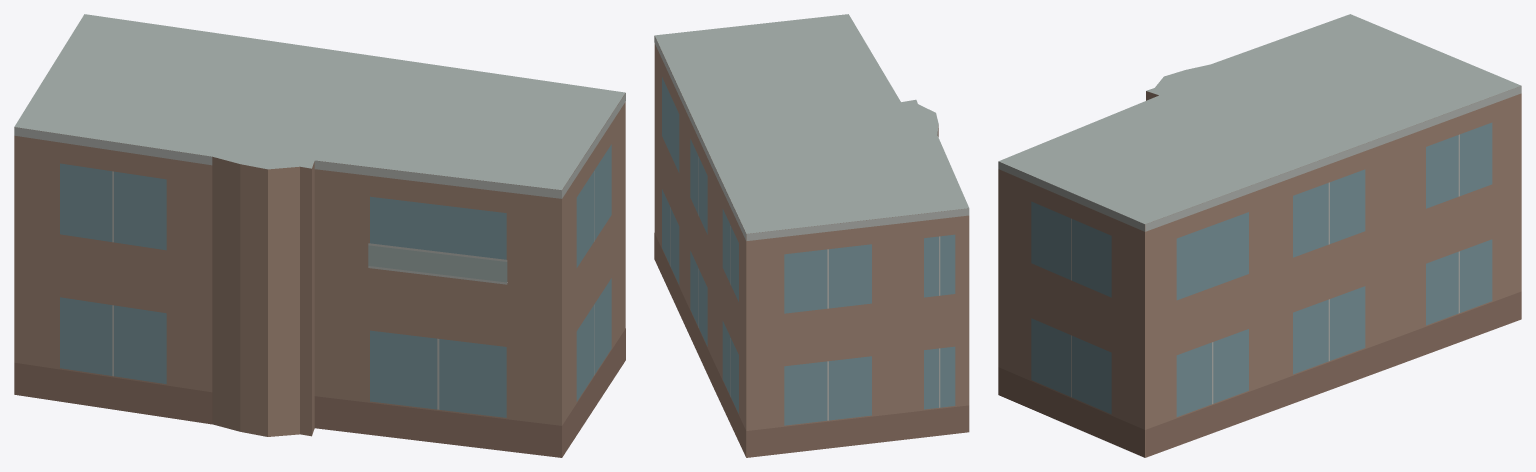
File: survey-upis-33004629.glb
3 renders of one model, left to right at view 1: azimuth 30°, elevation 25°; view 2: azimuth 150°, elevation 25°; view 3: azimuth 270°, elevation 25°, orthographic. The views are drawn at different scales.
Visible parts, largest first — view 1: survey-upis-33004629.tmp; view 2: survey-upis-33004629.tmp; view 3: survey-upis-33004629.tmp.
Part boxes in pixels (x1,y1,x2,y2): survey-upis-33004629.tmp: [14, 14, 625, 457]; survey-upis-33004629.tmp: [654, 14, 969, 457]; survey-upis-33004629.tmp: [998, 14, 1521, 457].
Size of the model in its own units: 14.49 by 7.5 by 15.24.
